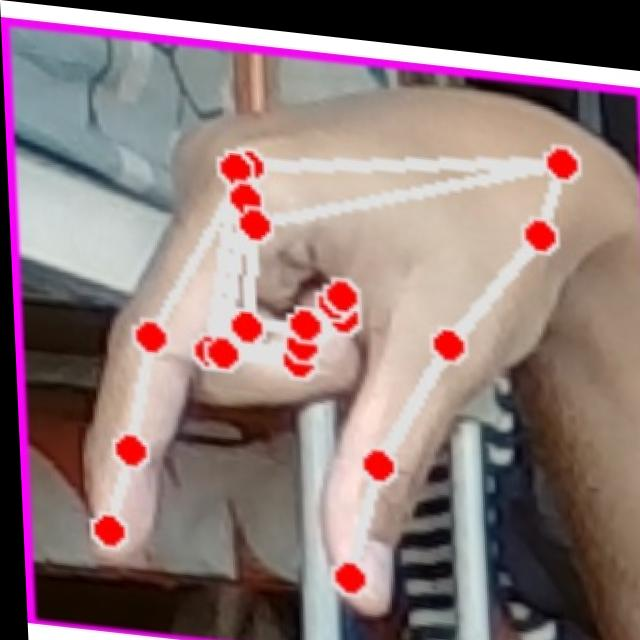Q: (41, 43, 630, 640)
